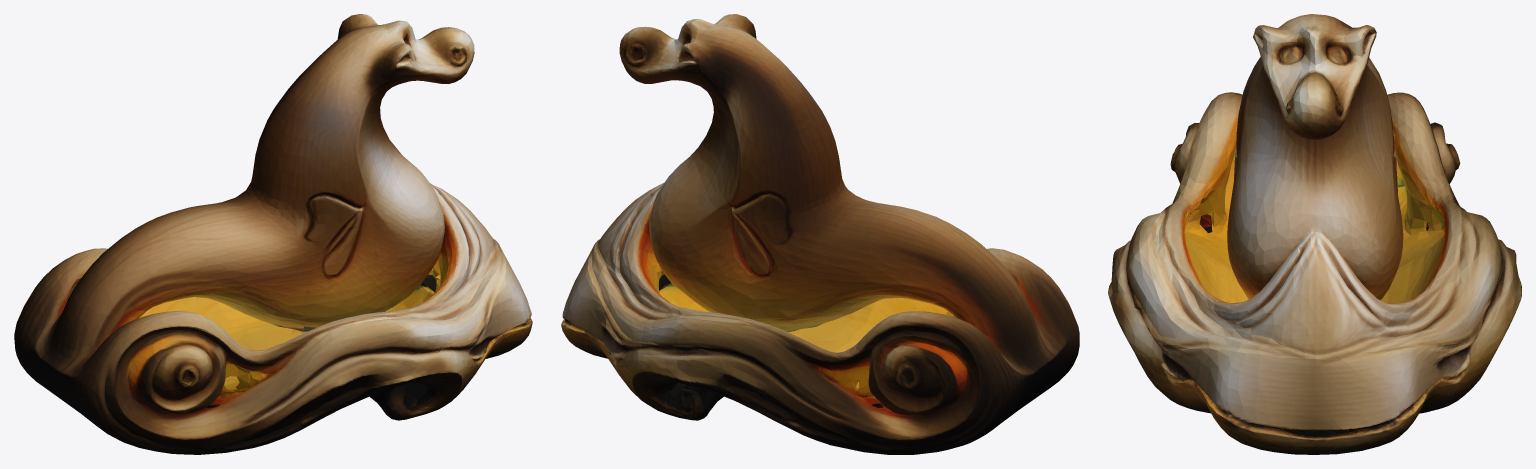
Rendered from wooden-mini-sculpture-rustic.jpeg.glb.
The picture shows the model from 3 angles, left to right: view 1: azimuth 30°, elevation 25°; view 2: azimuth 150°, elevation 25°; view 3: azimuth 270°, elevation 25°; orthographic projection. The views are drawn at different scales.
Parts seen in each view (by area): view 1: world; view 2: world; view 3: world.
Boxes of the visible parts, box(x1,y1,x2,y2) form: world: box(14, 14, 532, 454); world: box(561, 14, 1079, 454); world: box(1108, 14, 1521, 454).
Size of the model in its own units: 0.9989 by 0.7149 by 0.6858.
Materials: 1 (1 with a texture image).
